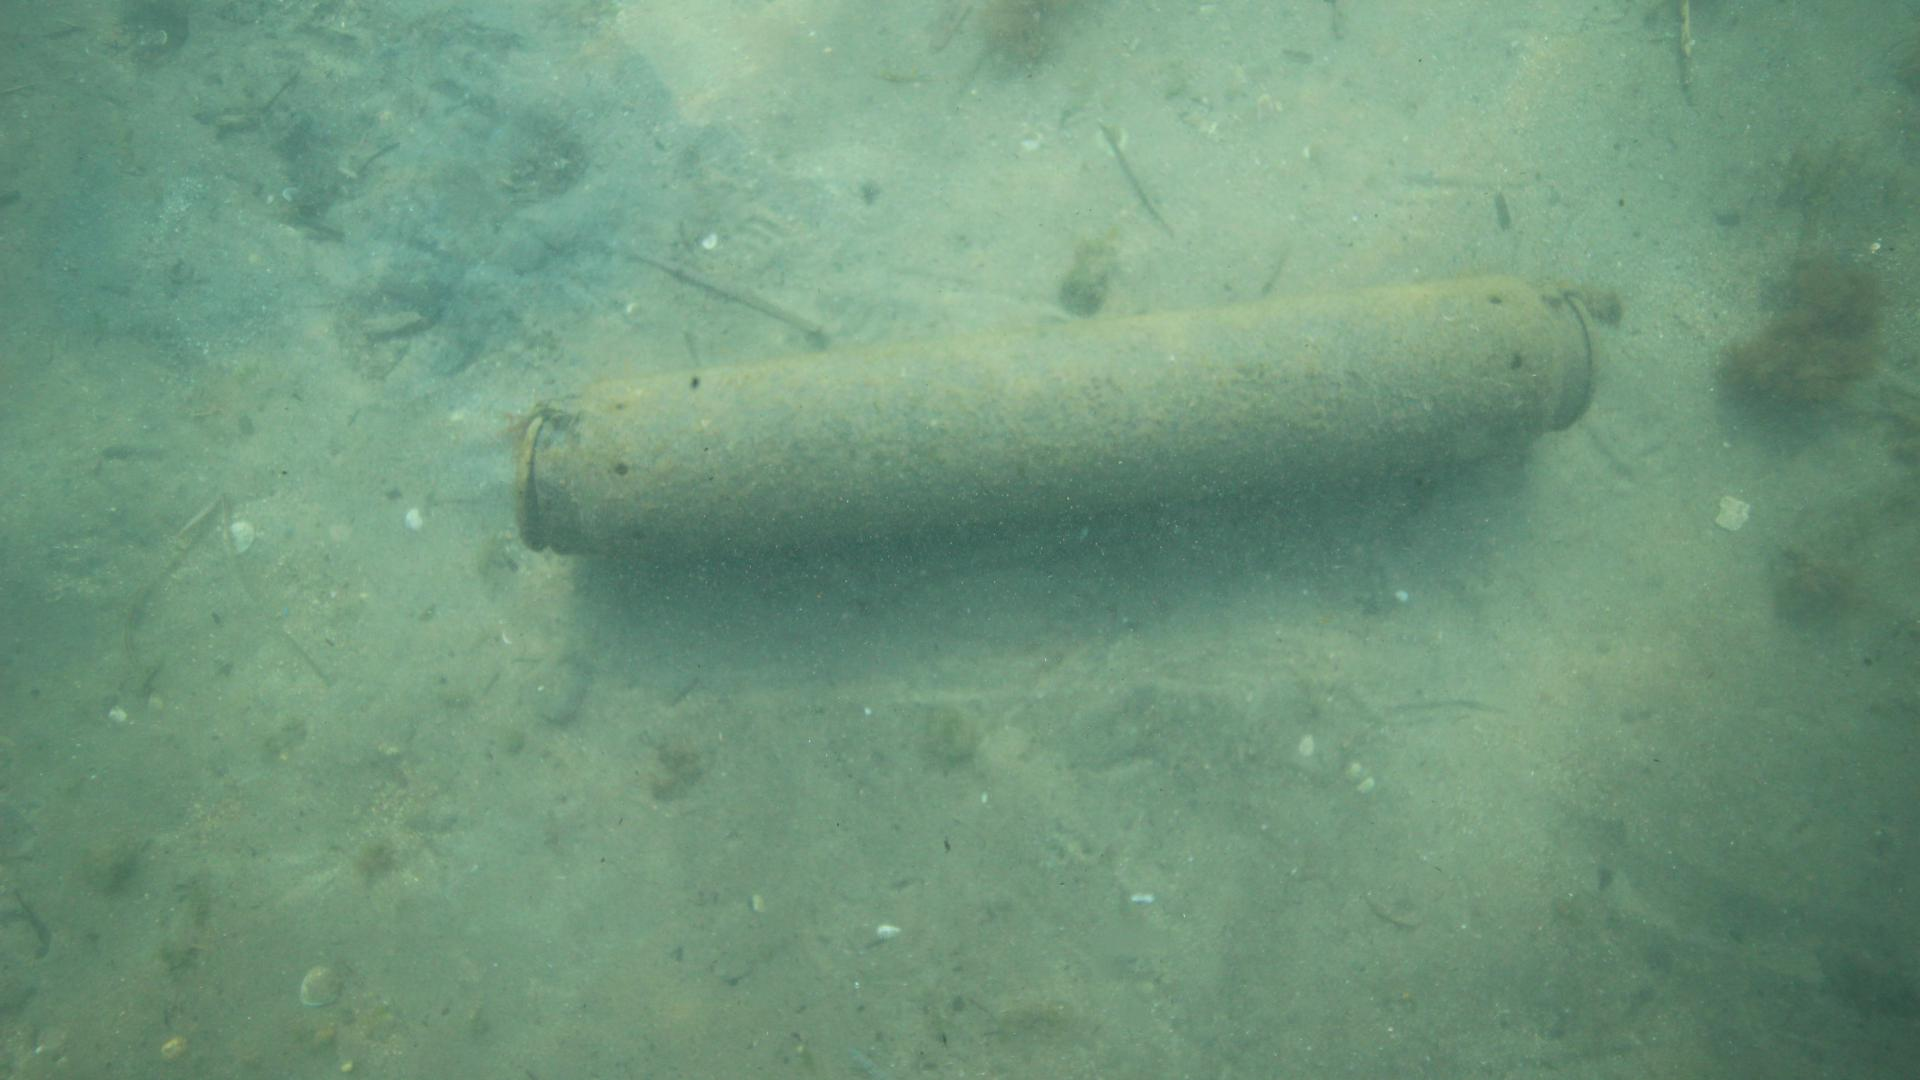eel fish trap: (512, 272, 1598, 570)
